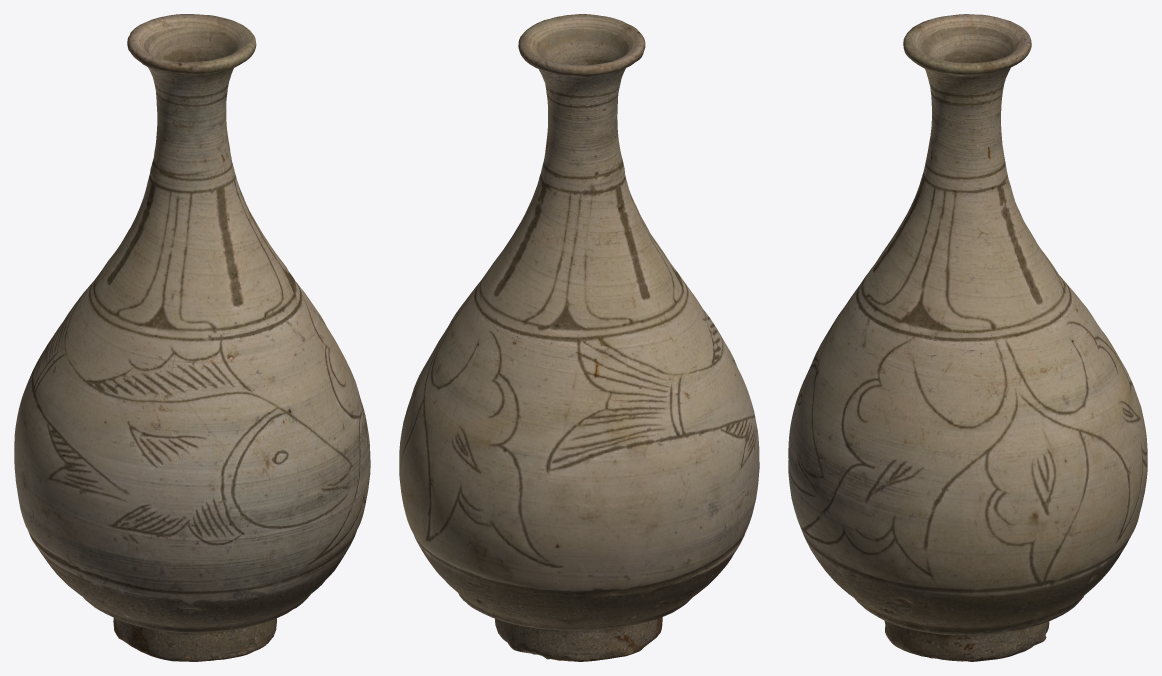
File: fishbottle.glb
The picture shows the model from 3 angles, left to right: view 1: azimuth 30°, elevation 25°; view 2: azimuth 150°, elevation 25°; view 3: azimuth 270°, elevation 25°; orthographic projection.
Visible parts, largest first — view 1: Object_2; view 2: Object_2; view 3: Object_2.
Part boxes in pixels (bbox=[...]): Object_2: bbox=[14, 14, 370, 661]; Object_2: bbox=[399, 14, 759, 661]; Object_2: bbox=[788, 14, 1147, 661].
Size of the model in its own units: 0.1677 by 0.3066 by 0.1691.
Materials: 1 (1 with a texture image).
